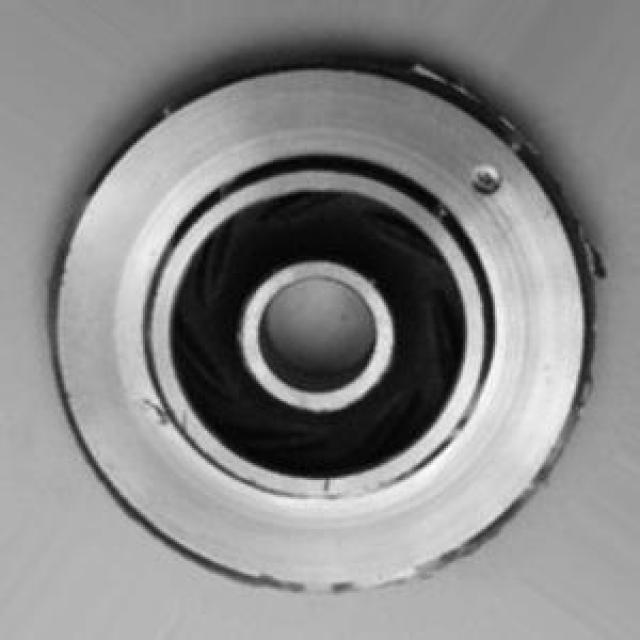Defect: (433, 55, 489, 113), (457, 151, 513, 202), (144, 392, 190, 442)
